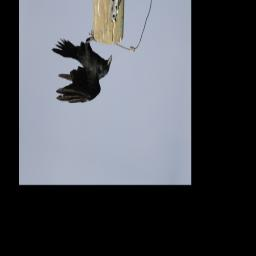Crow: (46, 19, 115, 116)
